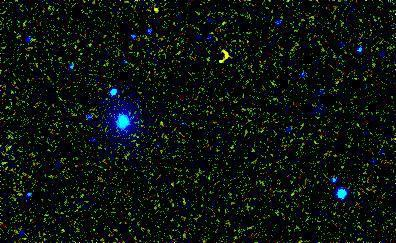star: (140, 0, 170, 25)
